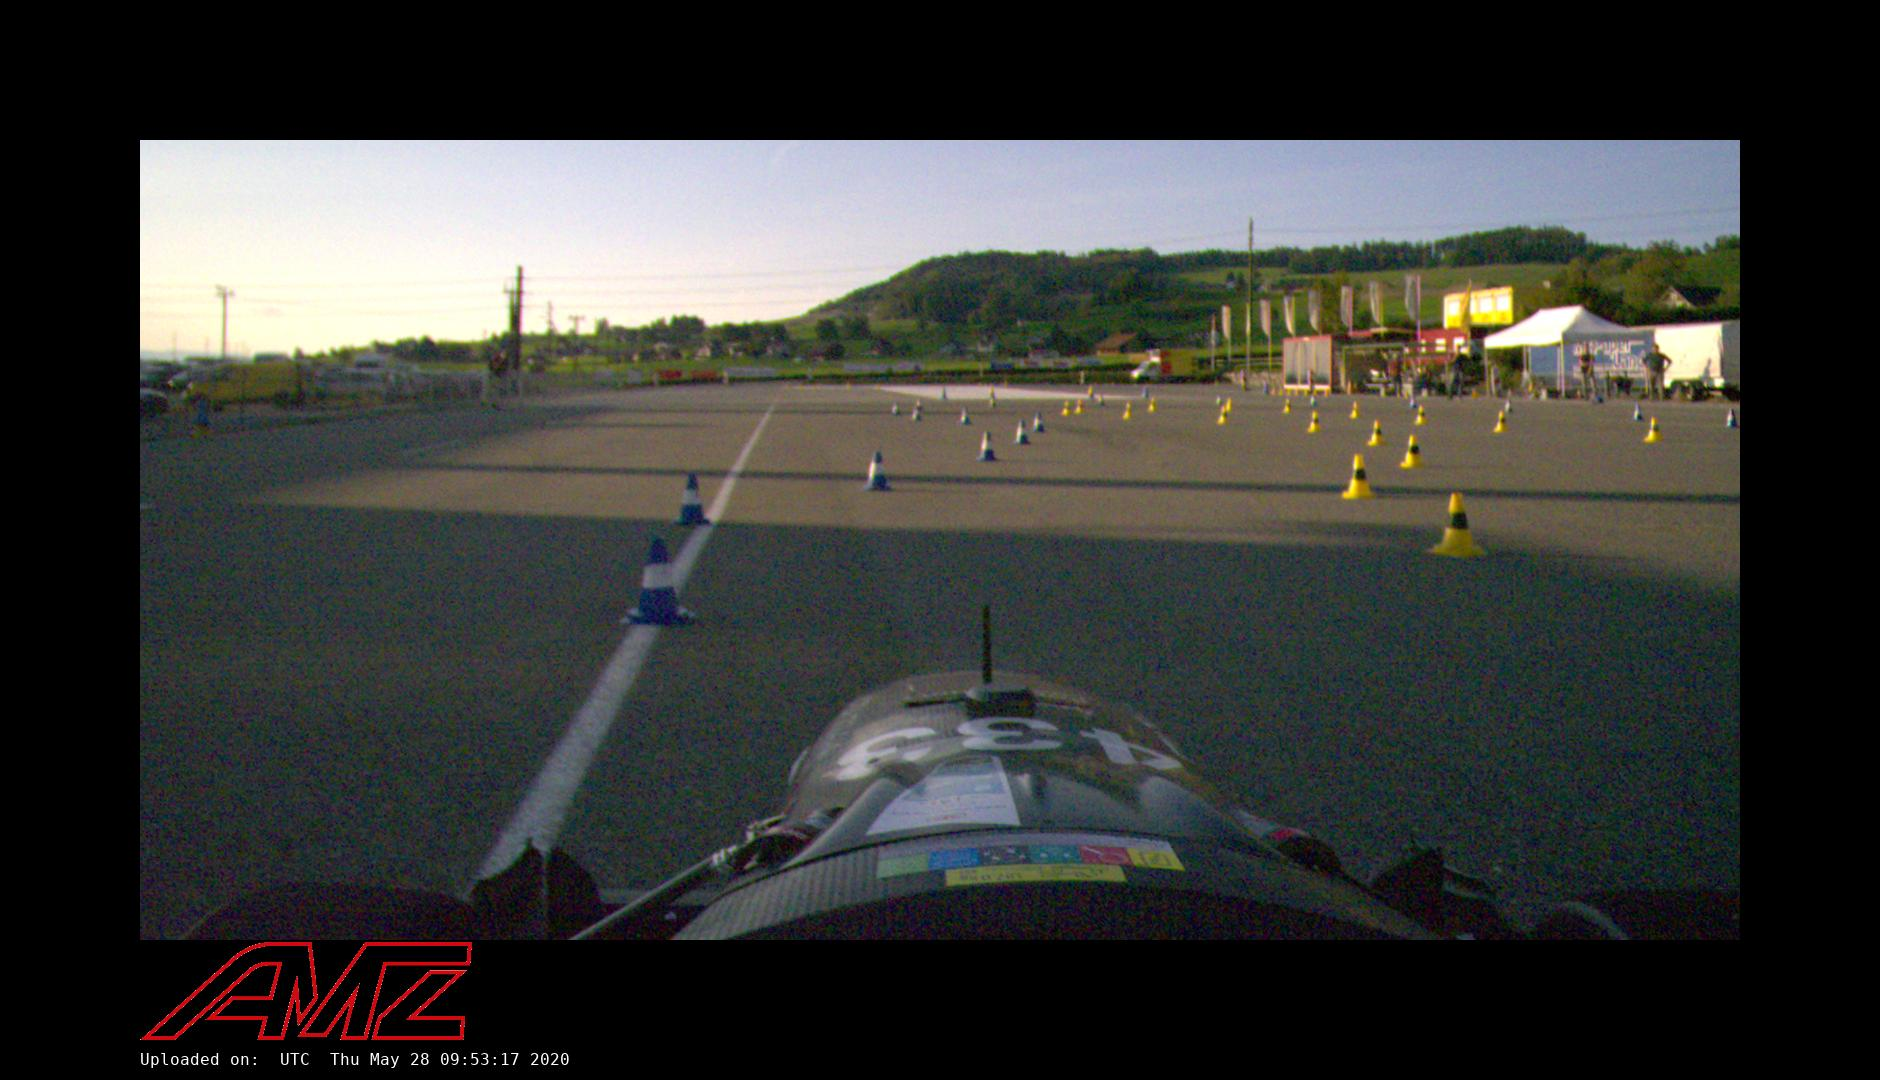blue_cone: (625, 537, 696, 627), (673, 474, 711, 527), (861, 450, 890, 492), (977, 431, 998, 461), (1014, 420, 1030, 446), (957, 406, 972, 426), (1030, 412, 1045, 434), (1726, 408, 1738, 430), (1632, 402, 1644, 422), (890, 400, 901, 416), (912, 406, 922, 421), (1504, 398, 1515, 413), (1309, 395, 1318, 408)
yellow_cone: (1429, 491, 1486, 561), (1342, 453, 1376, 500), (1398, 434, 1427, 469), (1367, 420, 1387, 447), (1644, 417, 1660, 444), (1305, 410, 1323, 434), (1493, 411, 1509, 434), (1413, 404, 1429, 428), (1349, 400, 1364, 420), (1060, 400, 1072, 419), (1218, 406, 1228, 425), (1147, 397, 1158, 413), (1122, 402, 1132, 420), (1074, 400, 1085, 416), (1283, 398, 1292, 413), (1225, 398, 1232, 412)
